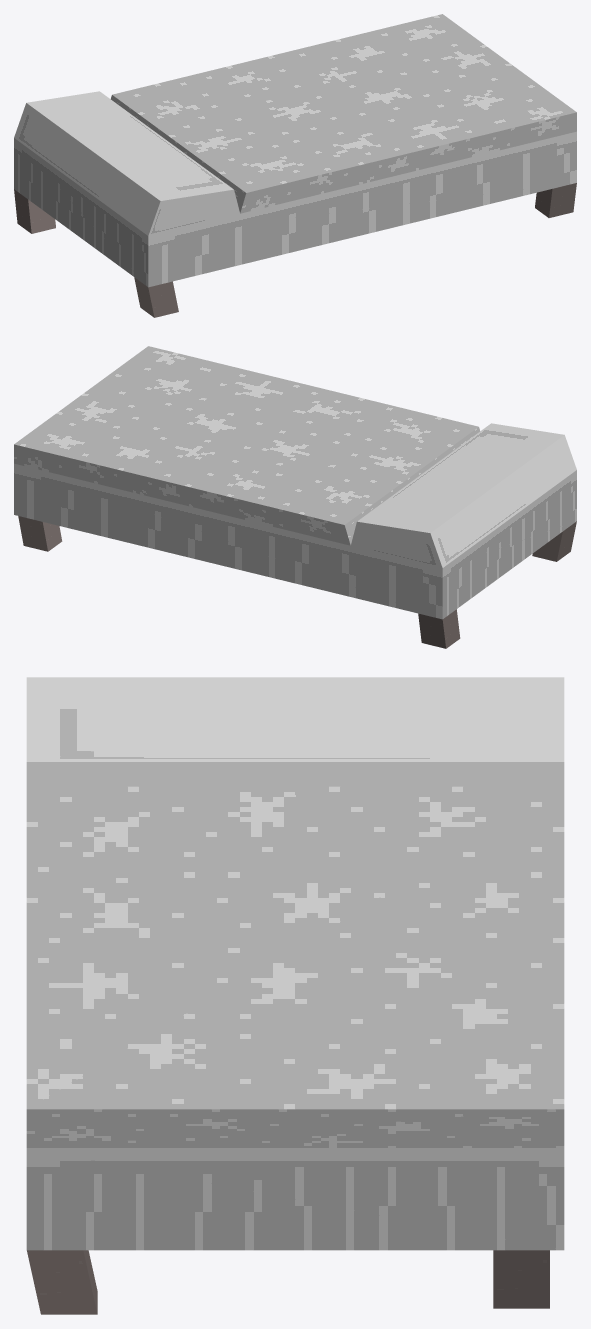
File: bed.glb
3 renders of one model, top to bottom at view 1: azimuth 30°, elevation 25°; view 2: azimuth 150°, elevation 25°; view 3: azimuth 270°, elevation 25°, orthographic. The views are drawn at different scales.
Parts seen in each view (by area): view 1: Mesh_0.033; view 2: Mesh_0.033; view 3: Mesh_0.033.
Part boxes in pixels (x1,y1,x2,y2): Mesh_0.033: [14, 14, 576, 317]; Mesh_0.033: [14, 346, 576, 648]; Mesh_0.033: [26, 677, 564, 1314].
Size of the model in its own units: 17.5 by 4.5 by 9.5.
Materials: 1 (1 with a texture image).
